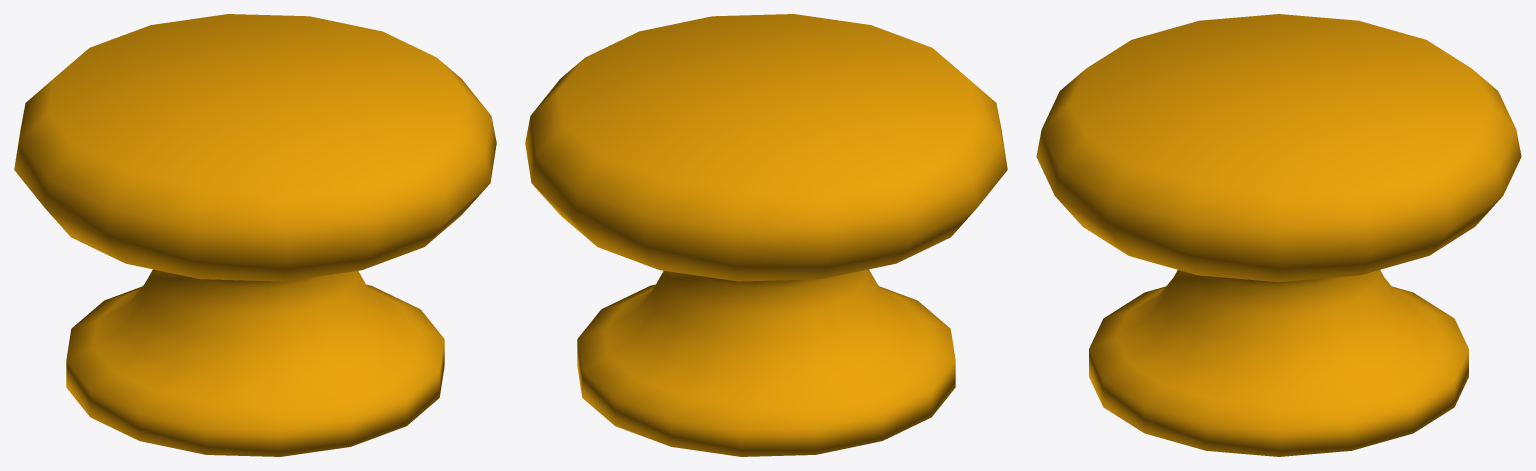
Rendered from doorknob.fbx.
3 views of the same model, side by side, from view 1: azimuth 30°, elevation 25°; view 2: azimuth 150°, elevation 25°; view 3: azimuth 270°, elevation 25° (orthographic).
Visible parts, largest first — view 1: Cube; view 2: Cube; view 3: Cube.
Boxes of the visible parts, bbox=[...] form: Cube: bbox=[14, 14, 496, 456]; Cube: bbox=[525, 14, 1007, 456]; Cube: bbox=[1036, 14, 1521, 456].
Size of the model in its own units: 492 by 307 by 492.
